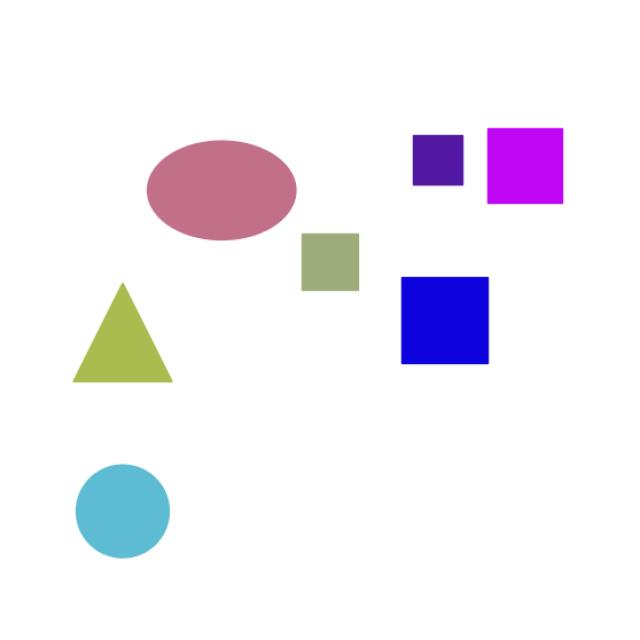Circle: (61, 454, 180, 580)
Oval: (139, 135, 298, 239)
Triangle: (63, 269, 181, 394)
square: (390, 259, 522, 381), (479, 116, 581, 215), (288, 228, 373, 308), (403, 122, 473, 190)
